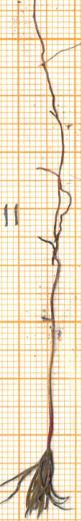flower: (0, 442, 77, 520)
root: (29, 0, 81, 319)
stem: (40, 317, 62, 450)
